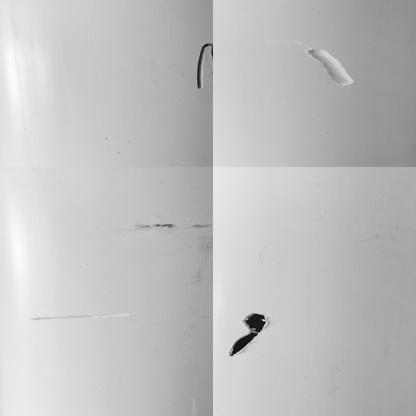fengxi: (193, 41, 214, 92)
kongdong: (224, 309, 271, 358)
sunshang: (300, 42, 357, 88), (29, 310, 136, 321)
